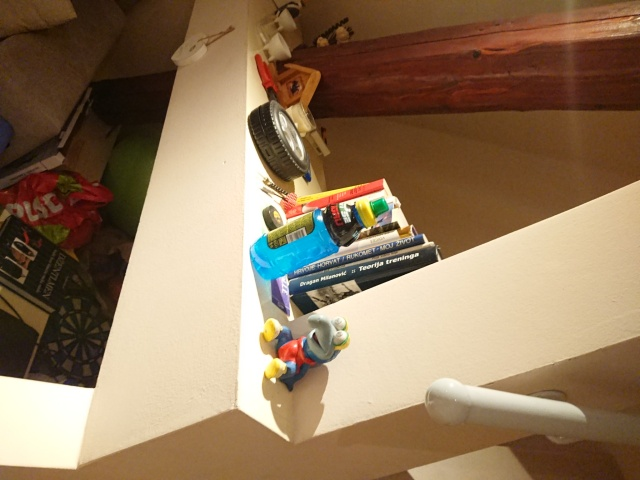Vindi Iso Sport Forest Strawberries 500mL: (247, 194, 391, 281)
